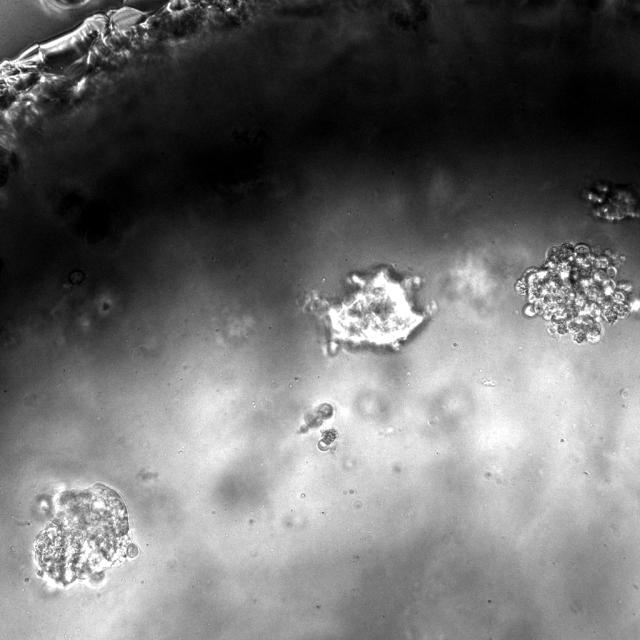organoid: (514, 242, 639, 344), (303, 265, 437, 356), (33, 483, 139, 589), (582, 180, 639, 221), (299, 402, 334, 433), (317, 428, 338, 451)
